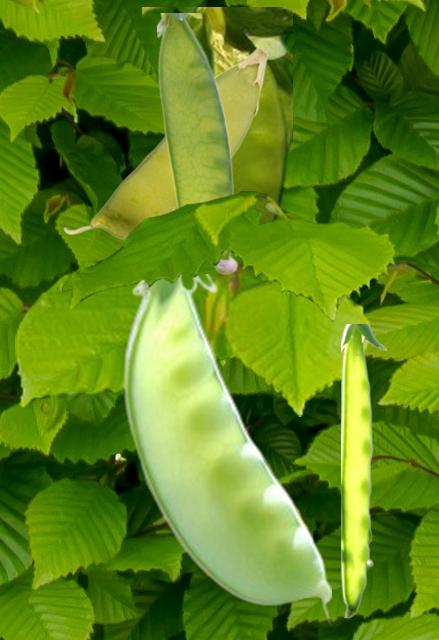pea: (122, 274, 330, 624), (63, 47, 267, 240), (142, 7, 291, 221), (157, 13, 237, 273), (341, 324, 386, 616)
